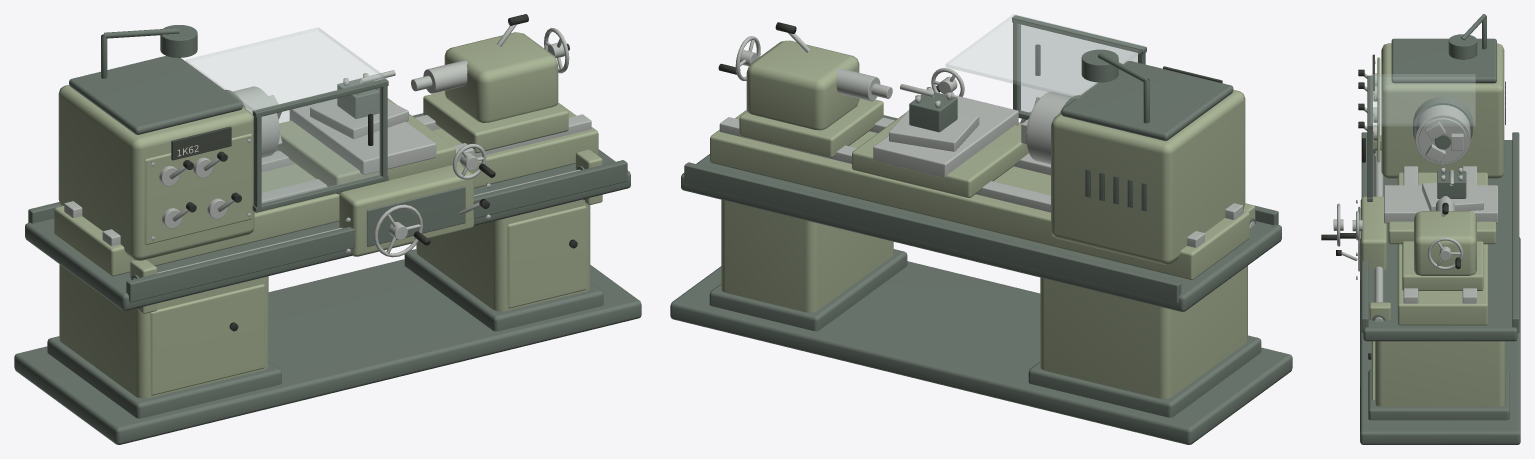
Rendered from lathe-1k62.glb.
3 renders of one model, left to right at view 1: azimuth 30°, elevation 25°; view 2: azimuth 150°, elevation 25°; view 3: azimuth 270°, elevation 25°, orthographic. The views are drawn at different scales.
Parts seen in each view (by area): view 1: painted-metal, cast-dark, glass, machined-steel, rubber, nameplate; view 2: painted-metal, cast-dark, machined-steel, glass; view 3: painted-metal, cast-dark, machined-steel, glass, rubber.
Part boxes in pixels (x1,y1,x2,y2): painted-metal: (54,32,602,398); cast-dark: (14,25,641,444); glass: (186,27,386,203); machined-steel: (64,24,591,279); rubber: (183,14,577,331); nameplate: (171,126,231,160); painted-metal: (710,40,1255,398); cast-dark: (670,15,1292,444); machined-steel: (719,33,1254,247); glass: (946,14,1144,113); painted-metal: (1360,43,1505,406); cast-dark: (1358,14,1520,444); machined-steel: (1333,60,1498,321); glass: (1370,74,1475,125); rubber: (1321,69,1460,359).
Size of the model in its own units: 3.72 by 2.29 by 1.59.
